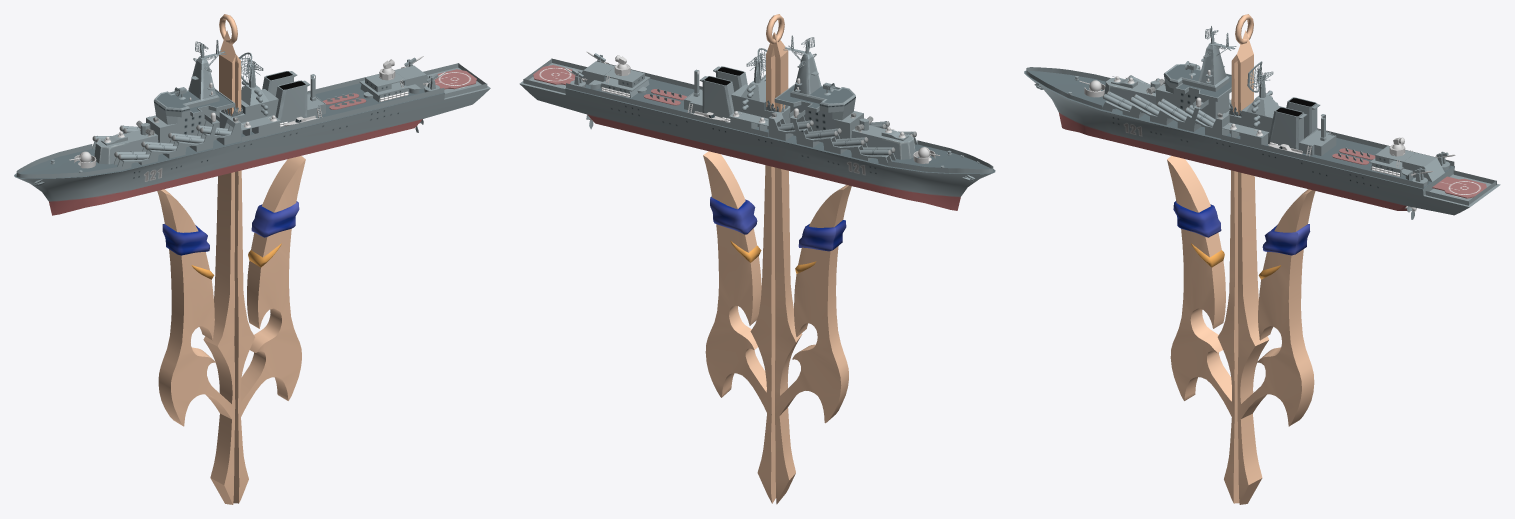
The model's file is kraisler.gltf.
The picture shows the model from 3 angles, left to right: view 1: azimuth 30°, elevation 25°; view 2: azimuth 150°, elevation 25°; view 3: azimuth 330°, elevation 25°; orthographic projection.
Parts seen in each view (by area): view 1: kraisler; view 2: kraisler; view 3: kraisler.
Part boxes in pixels (bbox=[...]): kraisler: bbox=[14, 14, 490, 504]; kraisler: bbox=[519, 14, 995, 504]; kraisler: bbox=[1024, 14, 1500, 504].
Bounding box in the file's own units: 20.83 × 21.13 × 2.51.
3 materials, 3 textured.
